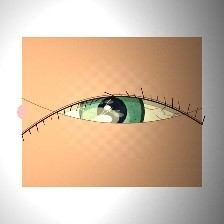corneal_ulcer: (69, 93, 131, 143)
